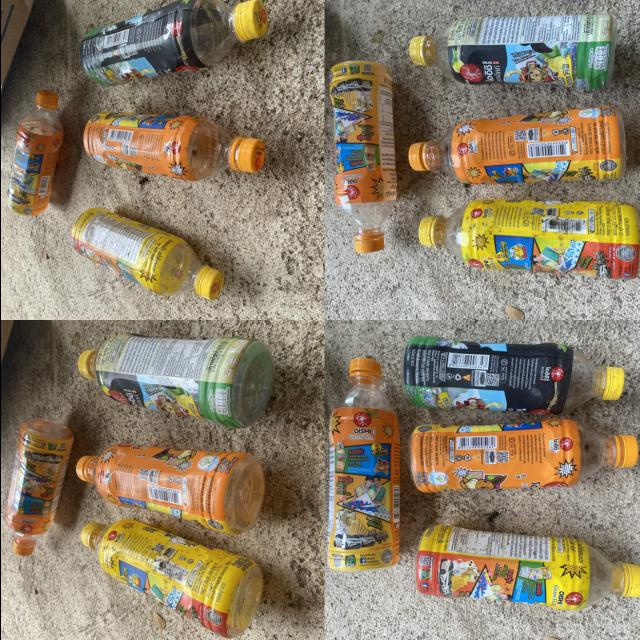plastik: (80, 519, 262, 637), (415, 525, 640, 611), (77, 334, 272, 428), (417, 199, 640, 279), (402, 337, 622, 415), (407, 106, 624, 184), (76, 445, 265, 534), (410, 419, 637, 492), (80, 0, 266, 86), (326, 359, 399, 572), (408, 14, 614, 89), (71, 208, 223, 299), (329, 61, 396, 253), (82, 112, 264, 181), (5, 418, 73, 555), (6, 90, 62, 216)
